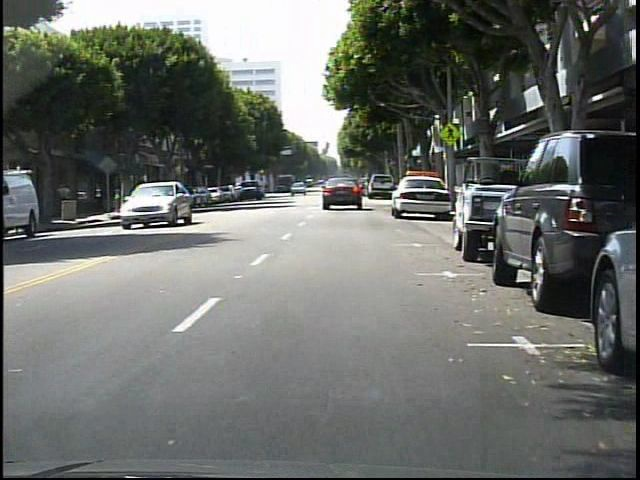person: (57, 179, 75, 221)
